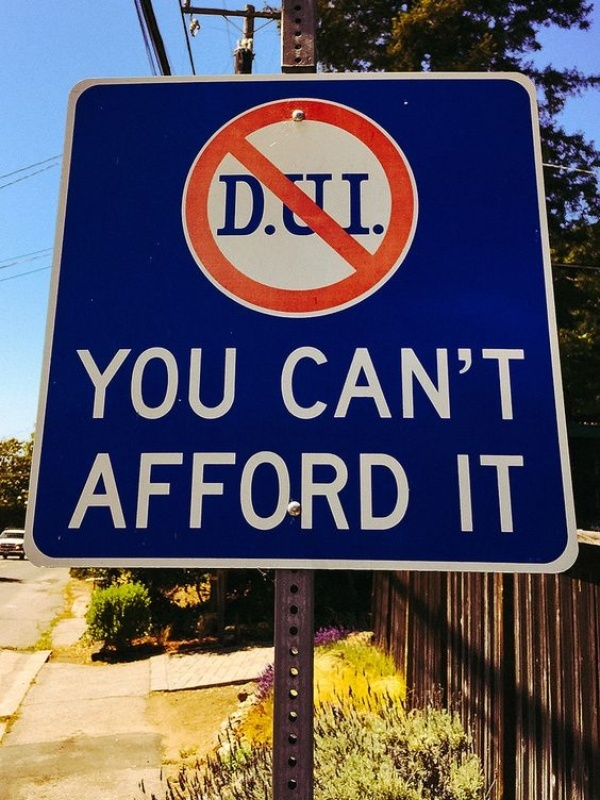text: (465, 452, 480, 536), (481, 452, 496, 536), (497, 452, 512, 536), (97, 449, 112, 532), (113, 449, 128, 532), (129, 449, 144, 532), (145, 449, 160, 532), (161, 449, 176, 532), (177, 449, 192, 532), (193, 449, 208, 532), (209, 449, 224, 532), (225, 449, 240, 532), (241, 449, 256, 532), (257, 449, 272, 532), (273, 449, 288, 532), (289, 449, 304, 532), (305, 449, 320, 532), (321, 449, 336, 532), (337, 449, 352, 532), (353, 449, 368, 532), (369, 449, 384, 532), (385, 449, 400, 532), (225, 344, 241, 421), (513, 452, 527, 536), (81, 344, 96, 421), (97, 344, 112, 421), (113, 344, 128, 421), (129, 344, 144, 421), (145, 344, 160, 421), (161, 344, 176, 421), (177, 344, 192, 421), (193, 344, 208, 421), (209, 344, 224, 421), (289, 345, 304, 422), (305, 345, 320, 422), (321, 345, 336, 422), (337, 345, 352, 422), (353, 345, 368, 422), (369, 345, 384, 422), (385, 345, 400, 422), (401, 345, 416, 422), (417, 345, 432, 422), (433, 345, 448, 422), (449, 345, 464, 422), (465, 345, 480, 422), (481, 345, 496, 422), (497, 345, 512, 422), (225, 170, 240, 240), (241, 170, 256, 240), (257, 170, 272, 240), (273, 170, 288, 240), (289, 170, 304, 240), (305, 170, 320, 240), (321, 170, 336, 240), (337, 170, 352, 240), (353, 170, 368, 240), (369, 170, 384, 240), (513, 345, 525, 422), (401, 449, 412, 532), (277, 345, 288, 422), (213, 170, 224, 240), (455, 452, 464, 536), (75, 344, 80, 421), (385, 170, 388, 240), (95, 449, 96, 532)
